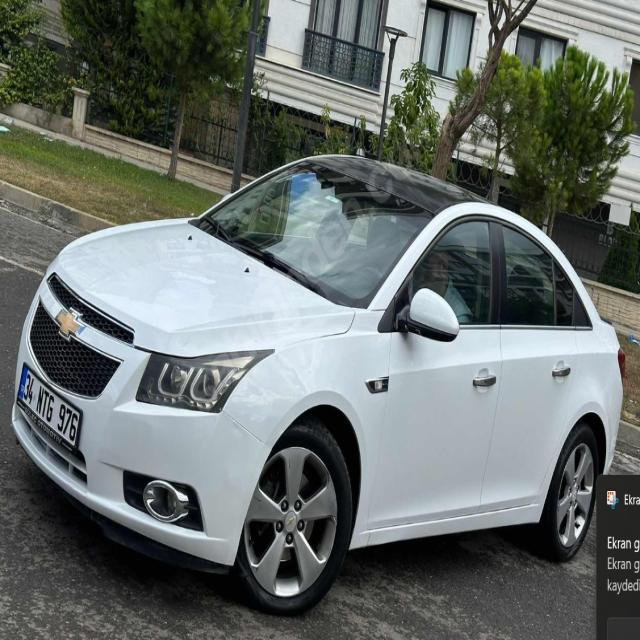chevrolet: (50, 298, 90, 344)
